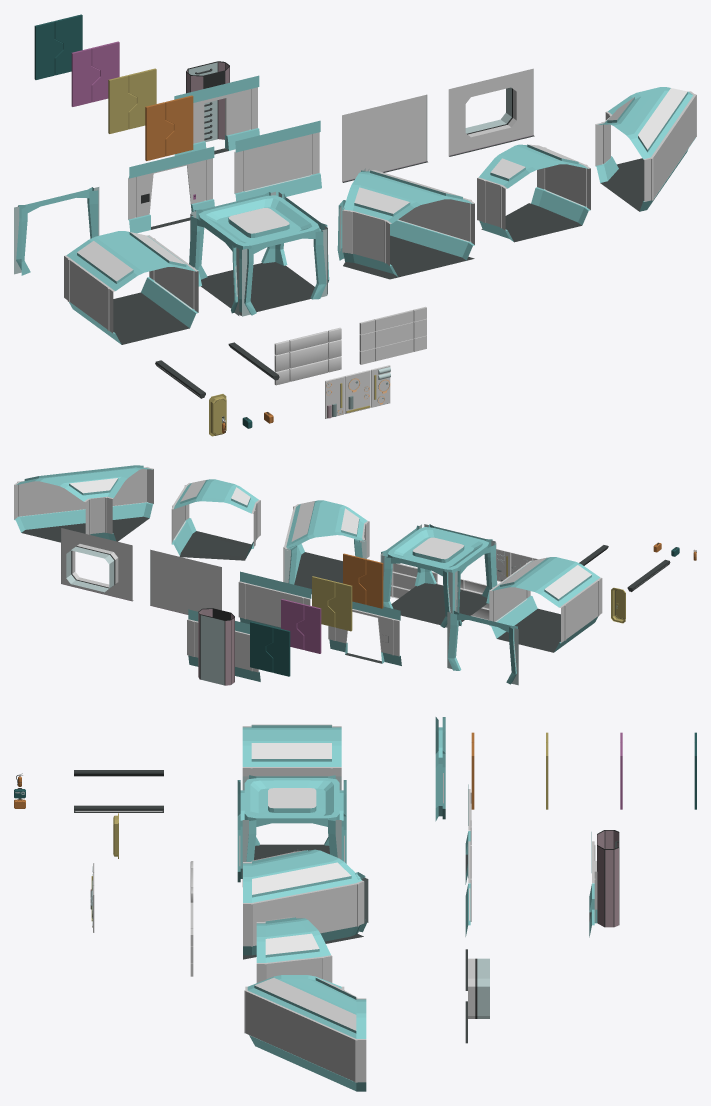
Rendered from CorridorModel.fbx.
The picture shows the model from 3 angles, top to bottom: view 1: azimuth 30°, elevation 25°; view 2: azimuth 150°, elevation 25°; view 3: azimuth 270°, elevation 25°; orthographic projection. The views are drawn at different scales.
Parts seen in each view (by area): view 1: wallCorridor Bend_45, wallCorridor_straight, wallCorridor Bend_90, wallCorridor Bend_22.5, Corridor_WildEndBland, corridor_wildEnd, corridor_AccessShaft, Corridor_Window, Arch_open, Cieling_4way, corridor_Door, floor_open (+18 smaller); view 2: wallCorridor Bend_90, wallCorridor_straight, corridor_AccessShaft, Corridor_WildEndBland, Corridor_Window, wallCorridor Bend_45, Arch_open, wallCorridor Bend_22.5, Cieling_4way, corridor_wildEnd, floor_open, corridor_Door (+19 smaller); view 3: wallCorridor Bend_90, wallCorridor Bend_45, wallCorridor_straight, wallCorridor Bend_22.5, Cieling_4way, Arch_open, corridor_AccessShaft, Corridor_Window, Corridor_handrails, arch_oneway, floor_open.
Part boxes in pixels (<box>): wallCorridor Bend_45: <box>342,170,474,276</box>; wallCorridor_straight: <box>64,231,198,344</box>; wallCorridor Bend_90: <box>595,87,696,211</box>; wallCorridor Bend_22.5: <box>477,144,590,241</box>; Corridor_WildEndBland: <box>342,94,427,182</box>; corridor_wildEnd: <box>234,120,321,201</box>; corridor_AccessShaft: <box>174,61,259,155</box>; Corridor_Window: <box>448,68,534,156</box>; Arch_open: <box>189,191,329,316</box>; Cieling_4way: <box>199,195,319,246</box>; corridor_Door: <box>128,146,214,233</box>; floor_open: <box>201,262,314,315</box>; wallCorridor Bend_90: <box>14,465,153,541</box>; wallCorridor_straight: <box>489,557,602,652</box>; corridor_AccessShaft: <box>187,608,260,685</box>; Corridor_WildEndBland: <box>150,549,221,614</box>; Corridor_Window: <box>61,528,133,601</box>; wallCorridor Bend_45: <box>283,500,369,582</box>; Arch_open: <box>380,524,497,627</box>; wallCorridor Bend_22.5: <box>171,479,260,558</box>; Cieling_4way: <box>388,527,488,569</box>; corridor_wildEnd: <box>238,571,311,628</box>; floor_open: <box>391,583,487,624</box>; corridor_Door: <box>328,601,401,665</box>; wallCorridor Bend_90: <box>244,975,366,1091</box>; wallCorridor Bend_45: <box>243,849,364,955</box>; wallCorridor_straight: <box>242,724,341,776</box>; wallCorridor Bend_22.5: <box>256,917,332,982</box>; Cieling_4way: <box>244,778,339,818</box>; Arch_open: <box>237,775,346,886</box>; corridor_AccessShaft: <box>589,830,619,937</box>; Corridor_Window: <box>465,958,489,1043</box>; Corridor_handrails: <box>74,770,163,812</box>; arch_oneway: <box>435,717,445,821</box>; floor_open: <box>254,844,329,860</box>.
Bounding box in the file's own units: 3011 × 778 × 2759.
